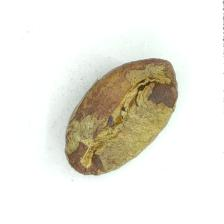NG: (79, 69, 170, 168)
